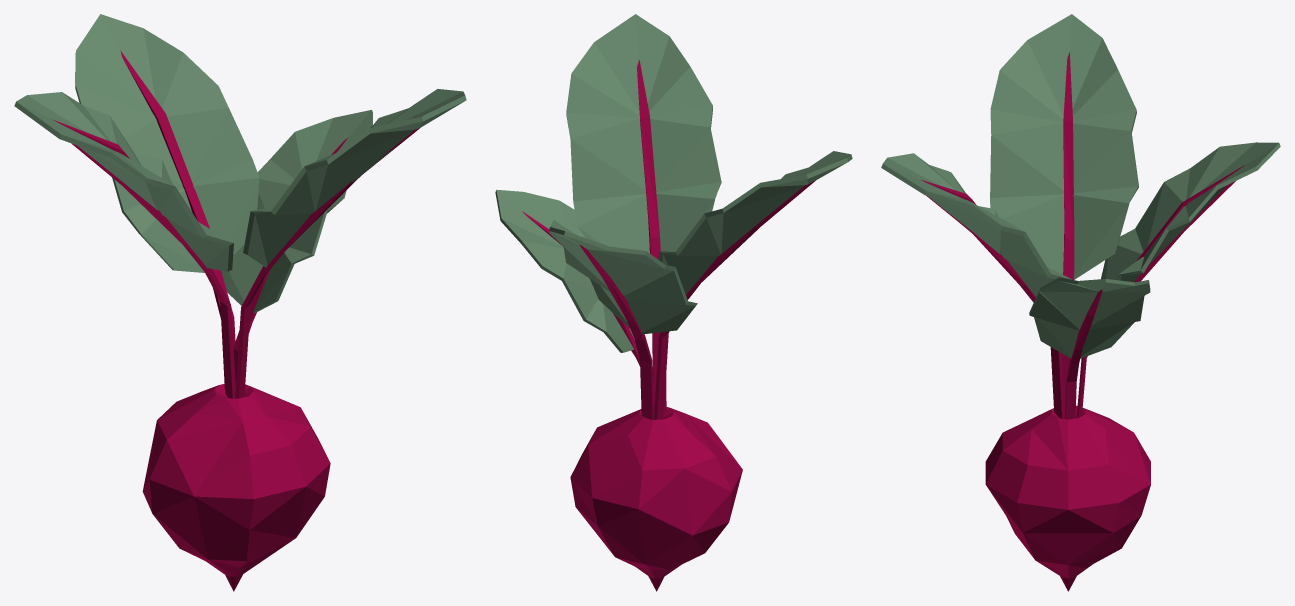
File: beet.glb
3 renders of one model, left to right at view 1: azimuth 30°, elevation 25°; view 2: azimuth 150°, elevation 25°; view 3: azimuth 270°, elevation 25°, orthographic. The views are drawn at different scales.
Visible parts, largest first — view 1: beet; view 2: beet; view 3: beet.
Boxes of the visible parts, x1,y1,x2,y2 form: beet: (14,14,466,591); beet: (495,14,852,591); beet: (881,14,1280,591).
Size of the model in its own units: 0.3711 by 0.5089 by 0.3809.
Materials: 1 (1 with a texture image).
